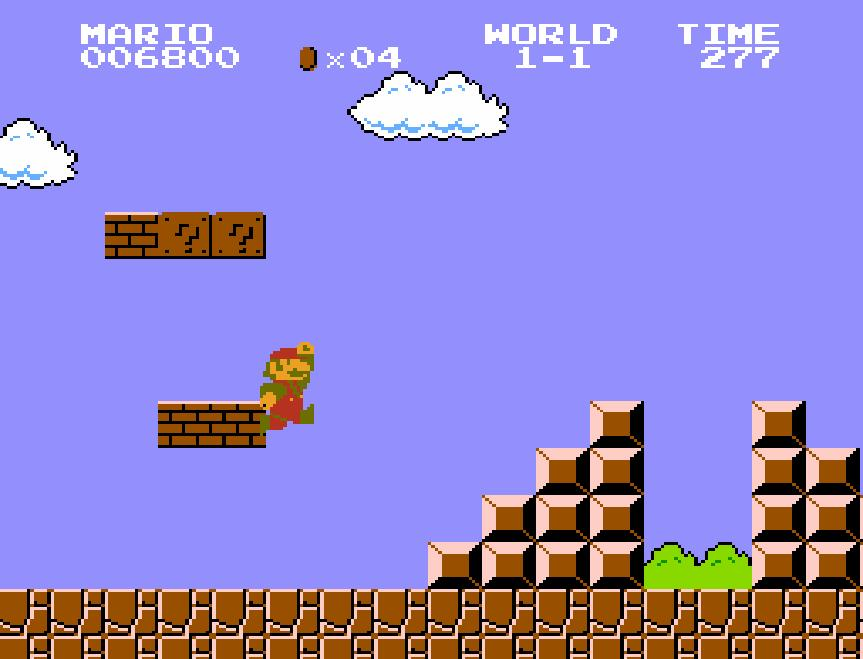big_mario: (254, 340, 312, 438)
